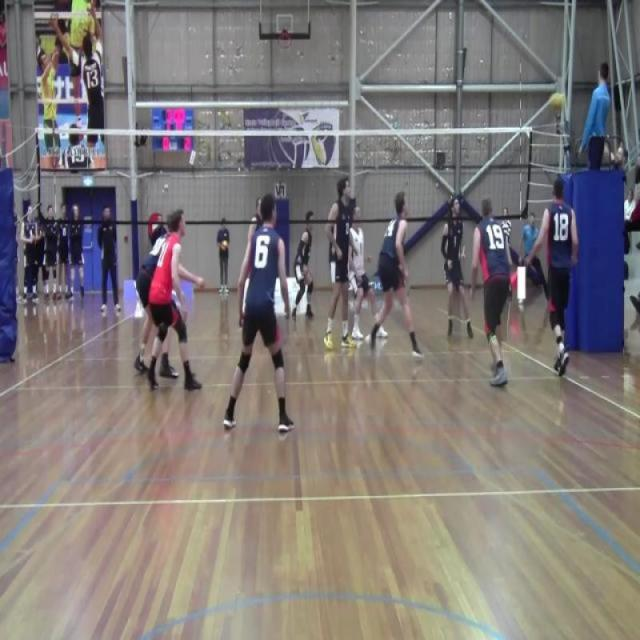volleyball: (548, 90, 566, 114), (220, 238, 230, 252)
